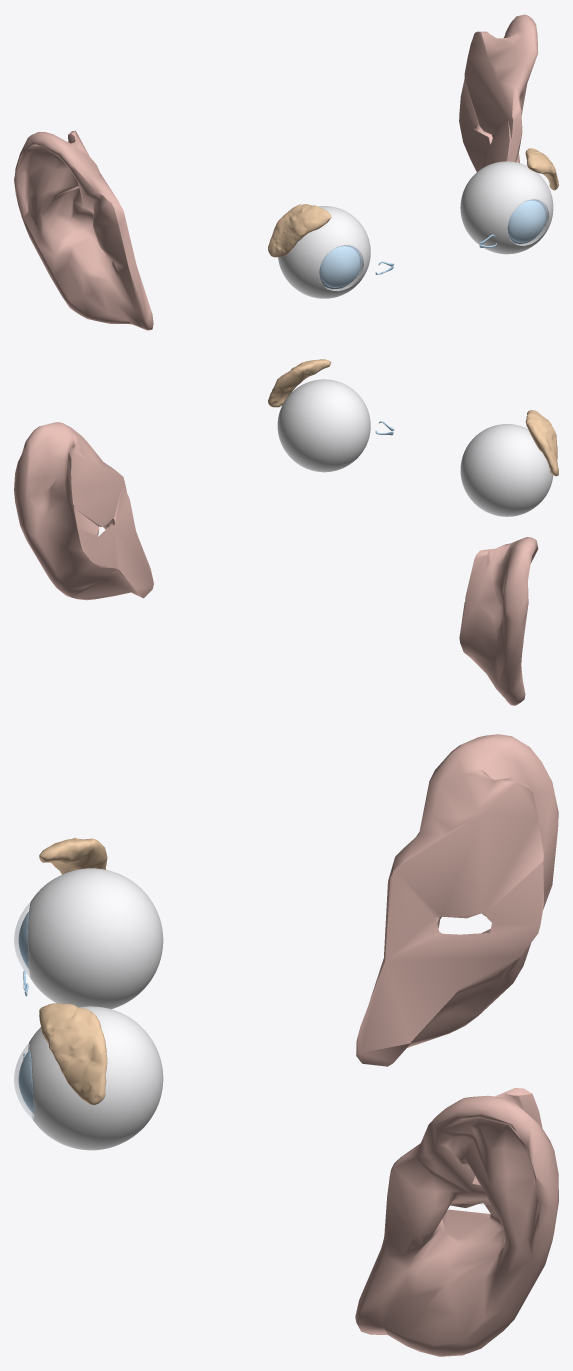
File: sentidos.glb
3 views of the same model, one above another, from view 1: azimuth 30°, elevation 25°; view 2: azimuth 150°, elevation 25°; view 3: azimuth 270°, elevation 25° (orthographic). The views are drawn at different scales.
Parts seen in each view (by area): view 1: oido-externo, esclera-i, esclera-d, glandula-lagrimal-d, cornea-d, cornea-i, camara-anterior-d, camara-anterior-i, glandula-lagrimal-i; view 2: oido-externo, esclera-i, esclera-d, glandula-lagrimal-d, glandula-lagrimal-i; view 3: oido-externo, esclera-d, esclera-i, glandula-lagrimal-i, glandula-lagrimal-d, cornea-i.
Boxes of the visible parts, x1,y1,x2,y2 form: oido-externo: (14, 14, 538, 330); esclera-i: (460, 161, 553, 254); esclera-d: (278, 206, 370, 298); glandula-lagrimal-d: (268, 204, 331, 257); cornea-d: (319, 245, 363, 290); cornea-i: (508, 200, 548, 244); camara-anterior-d: (320, 246, 360, 287); camara-anterior-i: (508, 200, 545, 242); glandula-lagrimal-i: (525, 148, 558, 190); oido-externo: (14, 422, 538, 705); esclera-i: (277, 379, 370, 472); esclera-d: (460, 424, 553, 516); glandula-lagrimal-d: (525, 410, 558, 476); glandula-lagrimal-i: (268, 359, 331, 407); oido-externo: (355, 734, 558, 1356); esclera-d: (28, 868, 163, 1009); esclera-i: (28, 1006, 163, 1150); glandula-lagrimal-i: (39, 1003, 107, 1105); glandula-lagrimal-d: (39, 837, 107, 874); cornea-i: (14, 1043, 33, 1119).
Size of the model in its own units: 0.1675 by 0.0569 by 0.0994.
